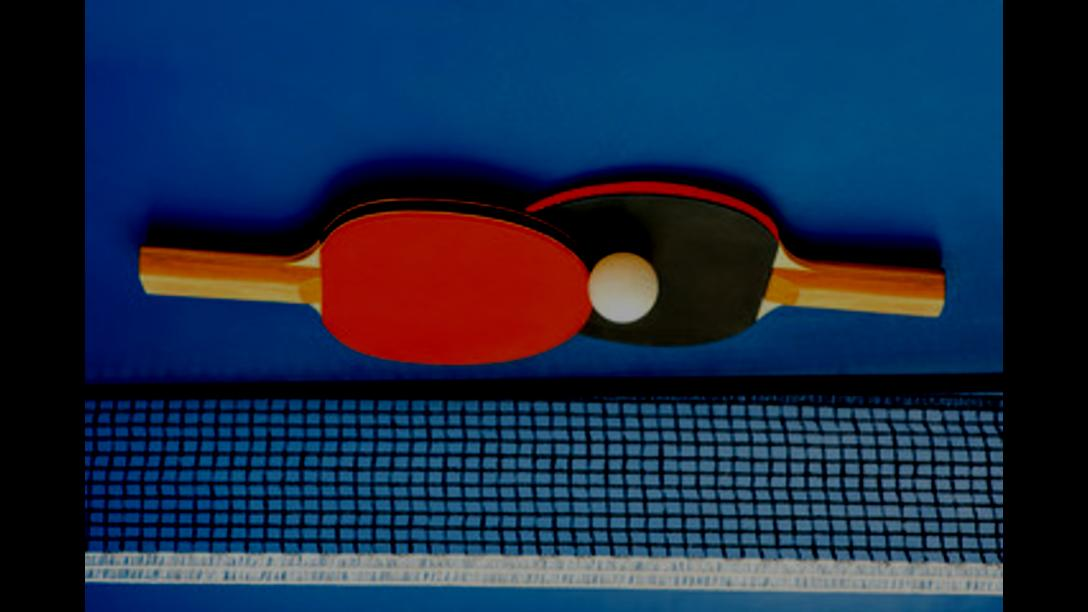Table-Tennis-Ball: (588, 250, 662, 326)
